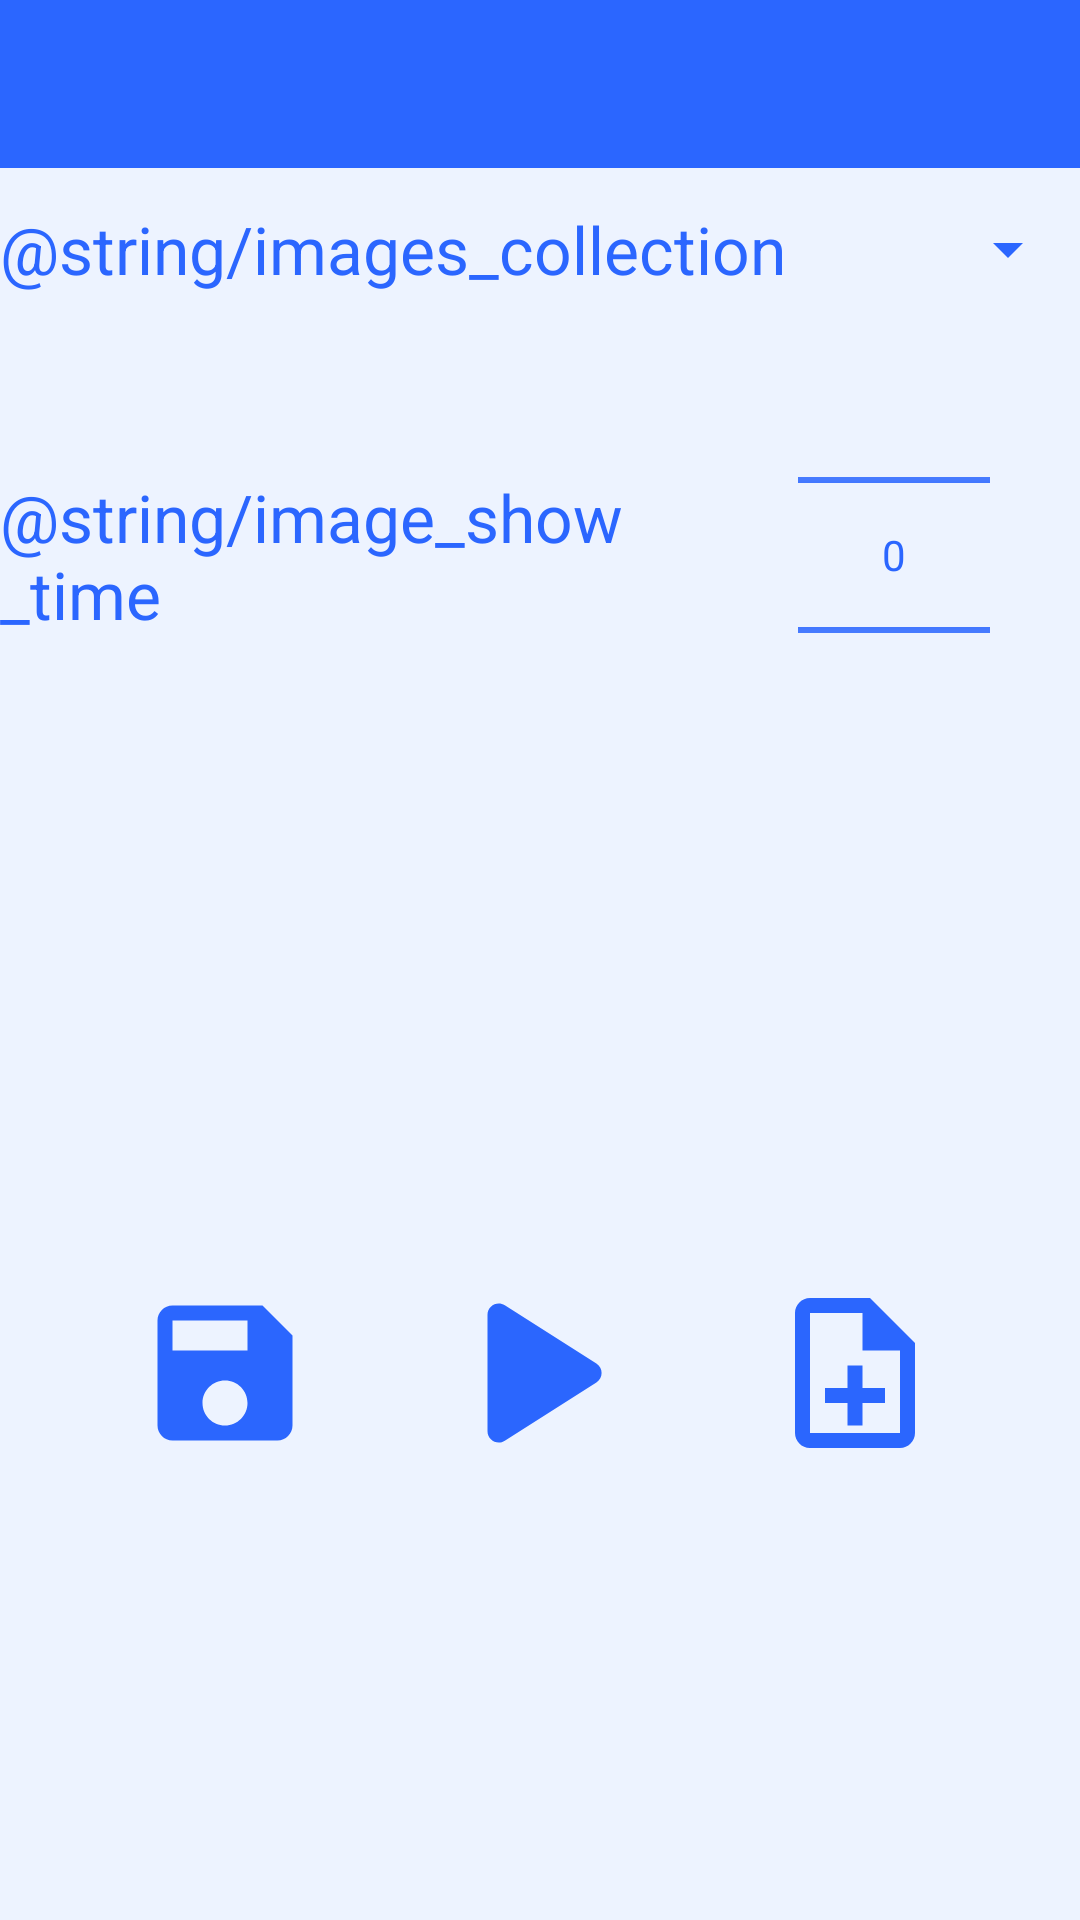

Named icons in this screenshot (1080px×1920px) and their bounding boxes, (x1, y1, x2, y2):
note add: (795, 1298, 915, 1448)
play arrow: (487, 1303, 602, 1443)
save: (157, 1305, 293, 1441)
